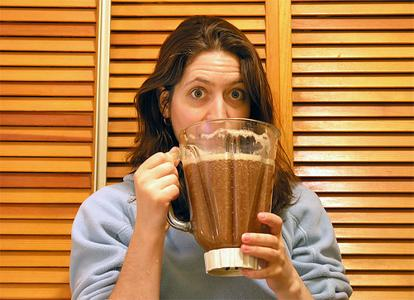person: (69, 16, 353, 299)
